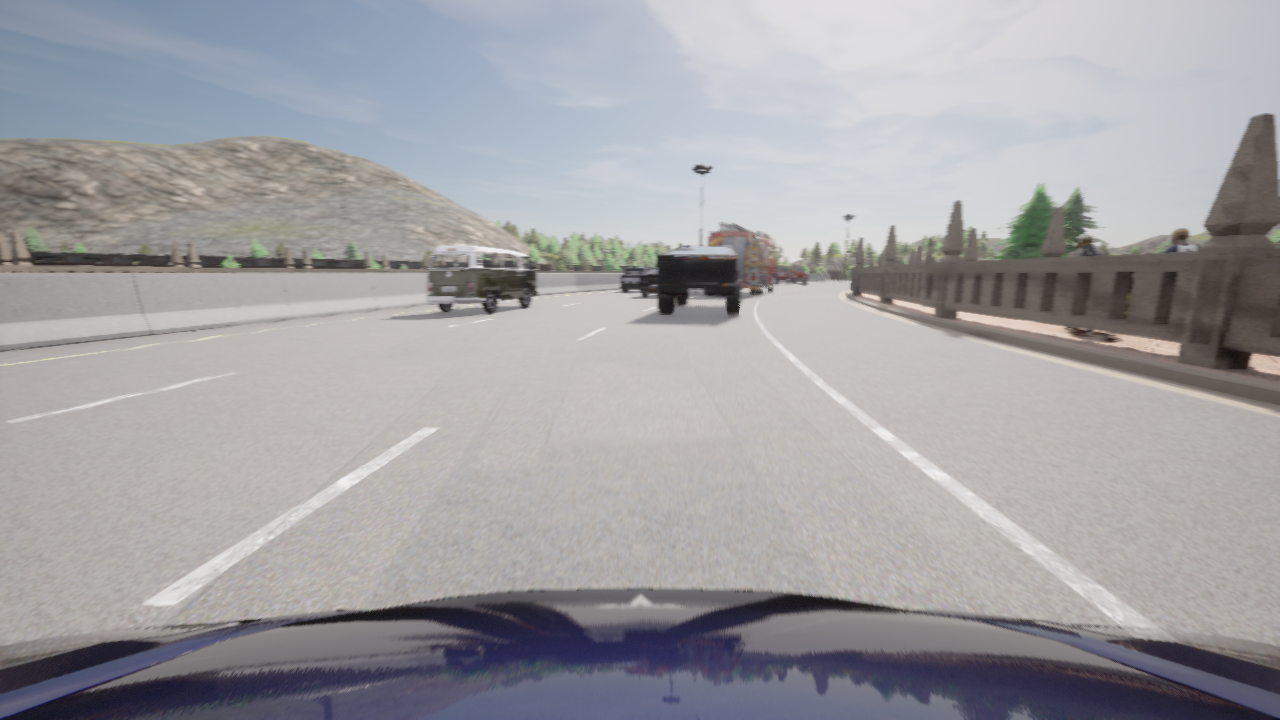cyclist: (0, 588, 1279, 719), (426, 244, 536, 313), (657, 246, 741, 314), (708, 222, 781, 295), (620, 266, 652, 291), (776, 265, 807, 284), (640, 268, 657, 296)
pedestrian: (1064, 233, 1103, 332), (1164, 228, 1199, 253), (1124, 271, 1134, 319), (1069, 235, 1079, 257)
